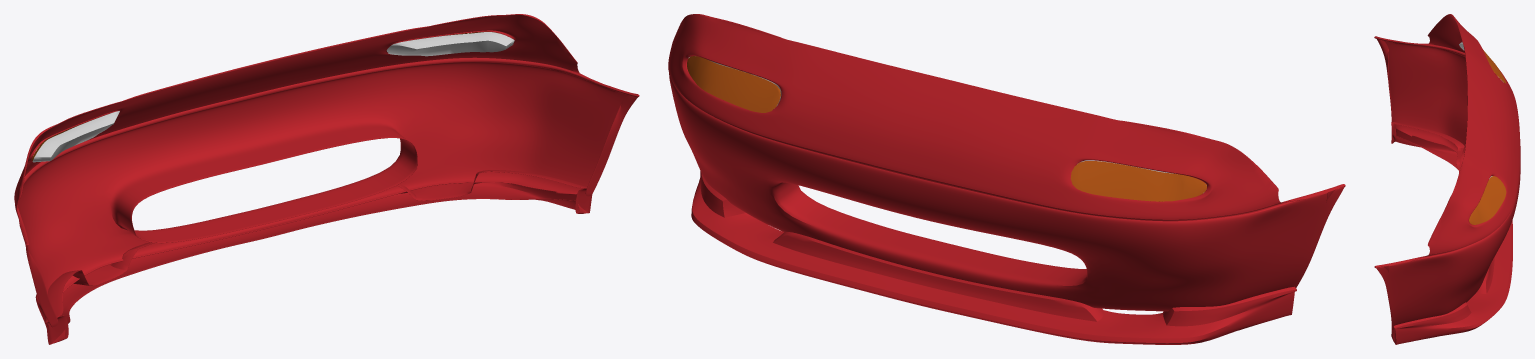
Rendered from lip-2.glb.
3 views of the same model, side by side, from view 1: azimuth 30°, elevation 25°; view 2: azimuth 150°, elevation 25°; view 3: azimuth 270°, elevation 25° (orthographic). The views are drawn at different scales.
Visible parts, largest first — view 1: Miata_Aero_FrontBarLip2; view 2: Miata_Aero_FrontBarLip2; view 3: Miata_Aero_FrontBarLip2.
Part boxes in pixels (left/top/right/bottom): Miata_Aero_FrontBarLip2: left=14, top=14, right=639, bottom=344; Miata_Aero_FrontBarLip2: left=668, top=14, right=1345, bottom=344; Miata_Aero_FrontBarLip2: left=1374, top=14, right=1520, bottom=344.
Size of the model in its own units: 64.14 by 18.86 by 17.2.
